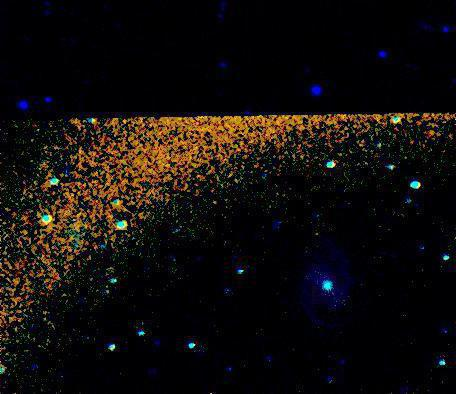star: (392, 141, 422, 171)
